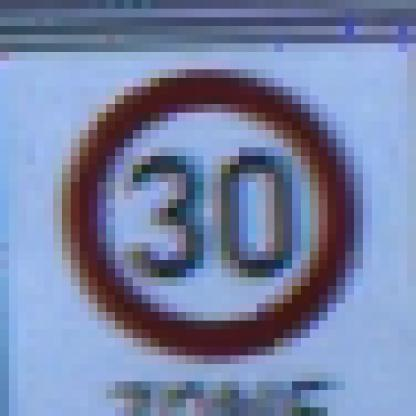Speed Limit 30: (73, 76, 351, 359)
